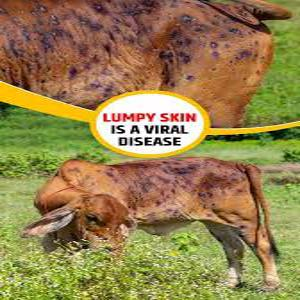lumpy skin diesease: (0, 0, 293, 133), (20, 155, 281, 292)
